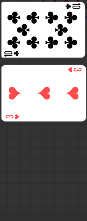10C: (64, 2, 82, 10)
